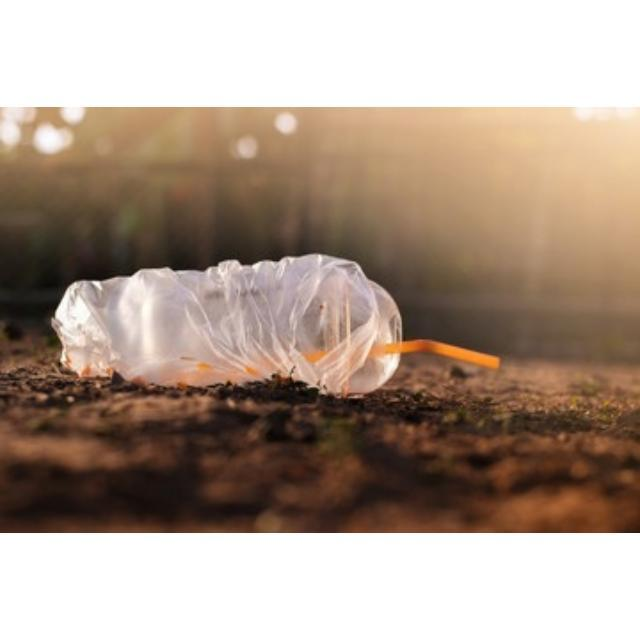plastic: (52, 254, 401, 394), (370, 339, 500, 369)
